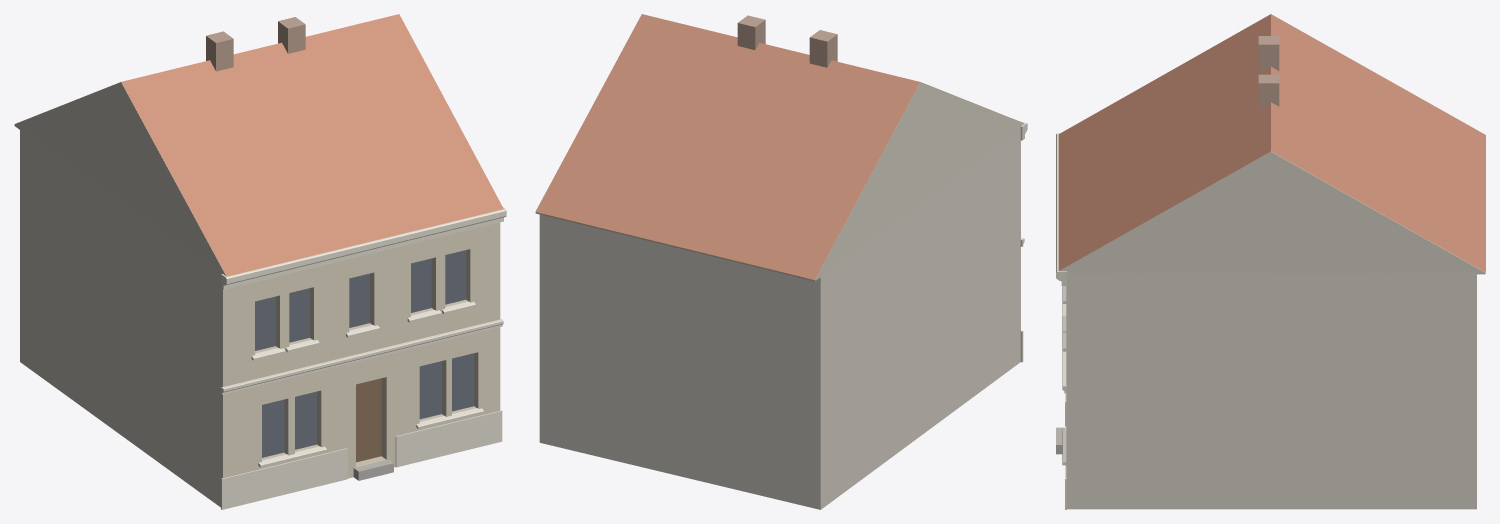
3 views of the same model, side by side, from view 1: azimuth 30°, elevation 25°; view 2: azimuth 150°, elevation 25°; view 3: azimuth 270°, elevation 25° (orthographic).
Parts seen in each view (by area): view 1: CP_666_Masonry, CP_666_Roof, CP_666_Gable_L_gable, CP_666_Cornice_plinth_0, CP_666_Cornice_main_0, CP_666_Cornice_plinth_1, CP_666_Cornice_string_0, CP_666_Chimney_0, CP_666_Chimney_1, CP_666_Step_0; view 2: CP_666_Masonry, CP_666_Roof, CP_666_Gable_L_gable, CP_666_Chimney_0, CP_666_Chimney_1, CP_666_Roof_EaveClosure_1; view 3: CP_666_Masonry, CP_666_Roof, CP_666_Gable_R_gable, CP_666_Chimney_0, CP_666_Chimney_1, CP_666_Cornice_main_0.
Part boxes in pixels (x1=…): CP_666_Masonry: x1=20, y1=129, x2=500, y2=507; CP_666_Roof: x1=15, y1=14, x2=503, y2=276; CP_666_Gable_L_gable: x1=14, y1=82, x2=226, y2=276; CP_666_Cornice_plinth_0: x1=221, y1=448, x2=347, y2=509; CP_666_Cornice_main_0: x1=221, y1=207, x2=506, y2=289; CP_666_Cornice_plinth_1: x1=395, y1=410, x2=502, y2=467; CP_666_Cornice_string_0: x1=221, y1=319, x2=503, y2=394; CP_666_Chimney_0: x1=206, y1=31, x2=233, y2=71; CP_666_Chimney_1: x1=278, y1=17, x2=305, y2=53; CP_666_Step_0: x1=353, y1=459, x2=393, y2=480; CP_666_Masonry: x1=539, y1=129, x2=1020, y2=509; CP_666_Roof: x1=535, y1=14, x2=1023, y2=279; CP_666_Gable_L_gable: x1=806, y1=82, x2=1023, y2=280; CP_666_Chimney_0: x1=809, y1=30, x2=837, y2=67; CP_666_Chimney_1: x1=737, y1=15, x2=765, y2=49; CP_666_Roof_EaveClosure_1: x1=535, y1=212, x2=820, y2=281; CP_666_Masonry: x1=1066, y1=272, x2=1476, y2=509; CP_666_Roof: x1=1058, y1=14, x2=1485, y2=272; CP_666_Gable_R_gable: x1=1059, y1=151, x2=1485, y2=273; CP_666_Chimney_0: x1=1258, y1=36, x2=1279, y2=72; CP_666_Chimney_1: x1=1258, y1=74, x2=1279, y2=108; CP_666_Cornice_main_0: x1=1056, y1=133, x2=1066, y2=285.
Size of the model in its own units: 9.54 by 12.2 by 12.52.
